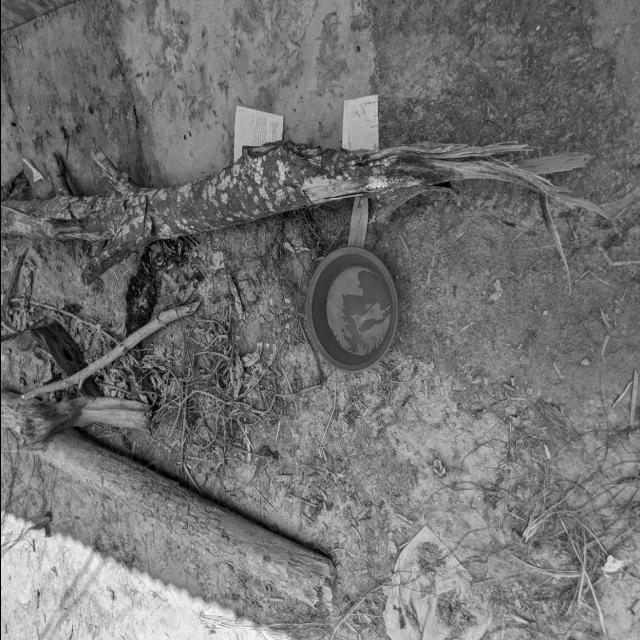Breeding Place: (295, 228, 419, 400)
